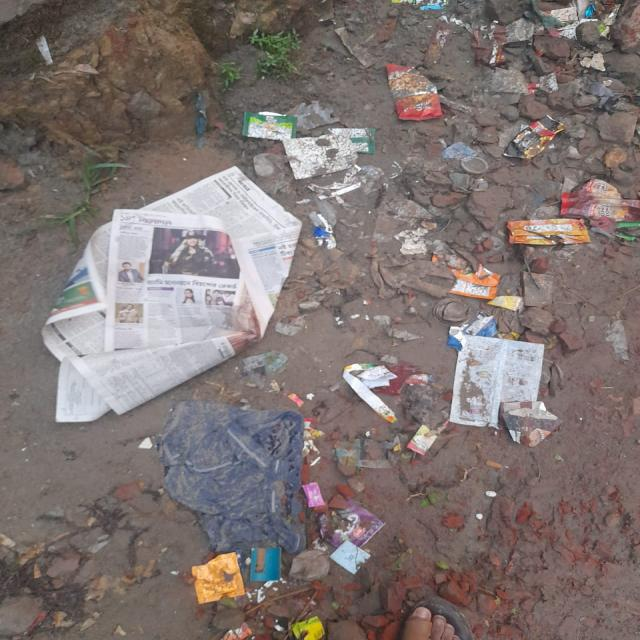paper: (31, 168, 303, 420), (449, 331, 542, 428)
